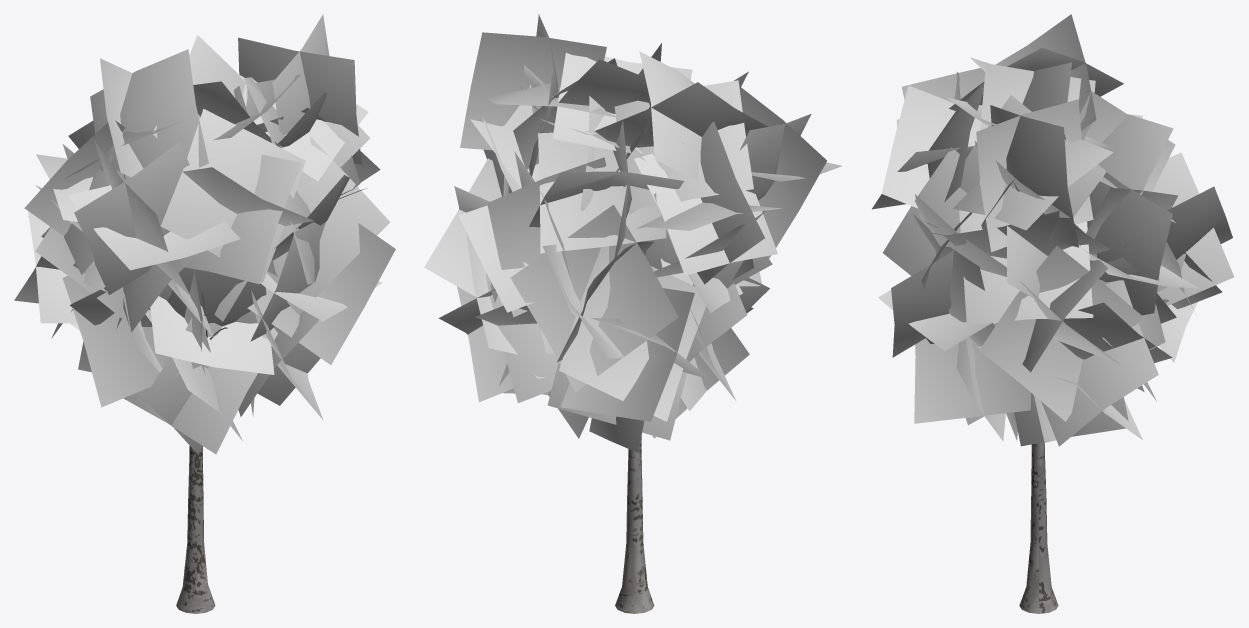
The model's file is tree04_main.fbx.
3 renders of one model, left to right at view 1: azimuth 30°, elevation 25°; view 2: azimuth 150°, elevation 25°; view 3: azimuth 270°, elevation 25°, orthographic.
Visible parts, largest first — view 1: Cylinder.012; view 2: Cylinder.012; view 3: Cylinder.012.
Boxes of the visible parts, x1,y1,x2,y2 form: Cylinder.012: (14,14,395,613); Cylinder.012: (424,14,841,613); Cylinder.012: (872,14,1234,613).
Bounding box in the file's own units: 401 × 633 × 375.
